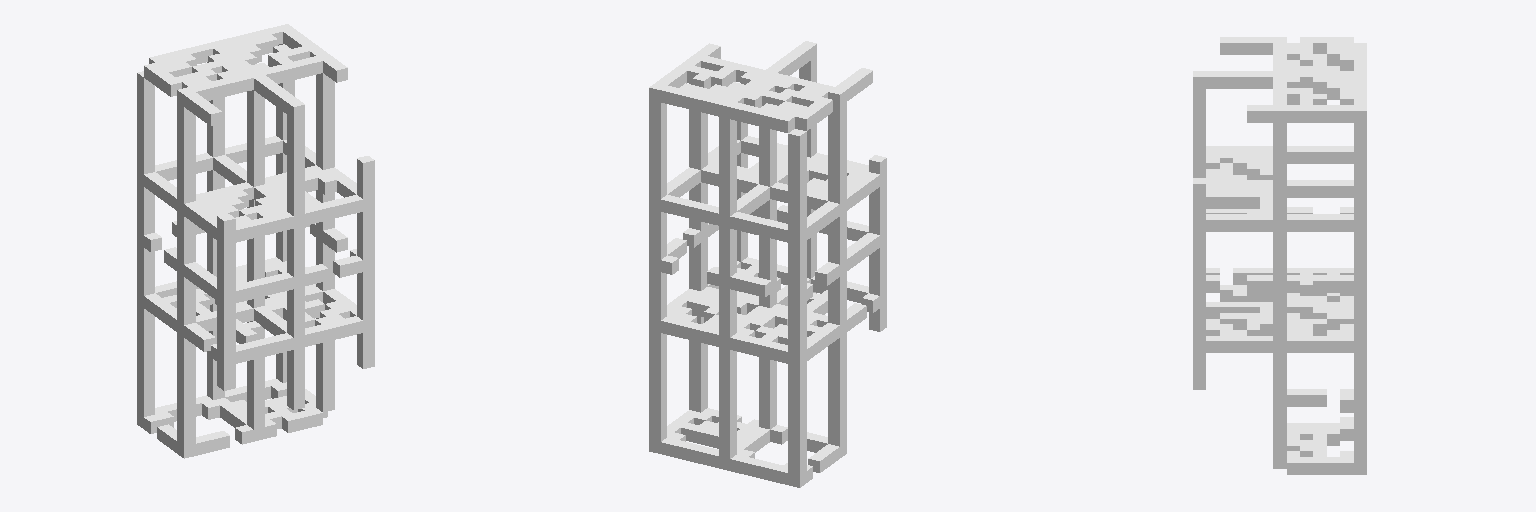
Rendered from construct.obj.
3 renders of one model, left to right at view 1: azimuth 30°, elevation 25°; view 2: azimuth 150°, elevation 25°; view 3: azimuth 270°, elevation 25°, orthographic.
Visible parts, largest first — view 1: storage.001; view 2: storage.001; view 3: storage.001.
Part boxes in pixels (x1,y1,x2,y2): storage.001: (137,24,374,458); storage.001: (649,41,886,487); storage.001: (1193,37,1366,474).
Size of the model in its own units: 1.3 by 3 by 1.3.